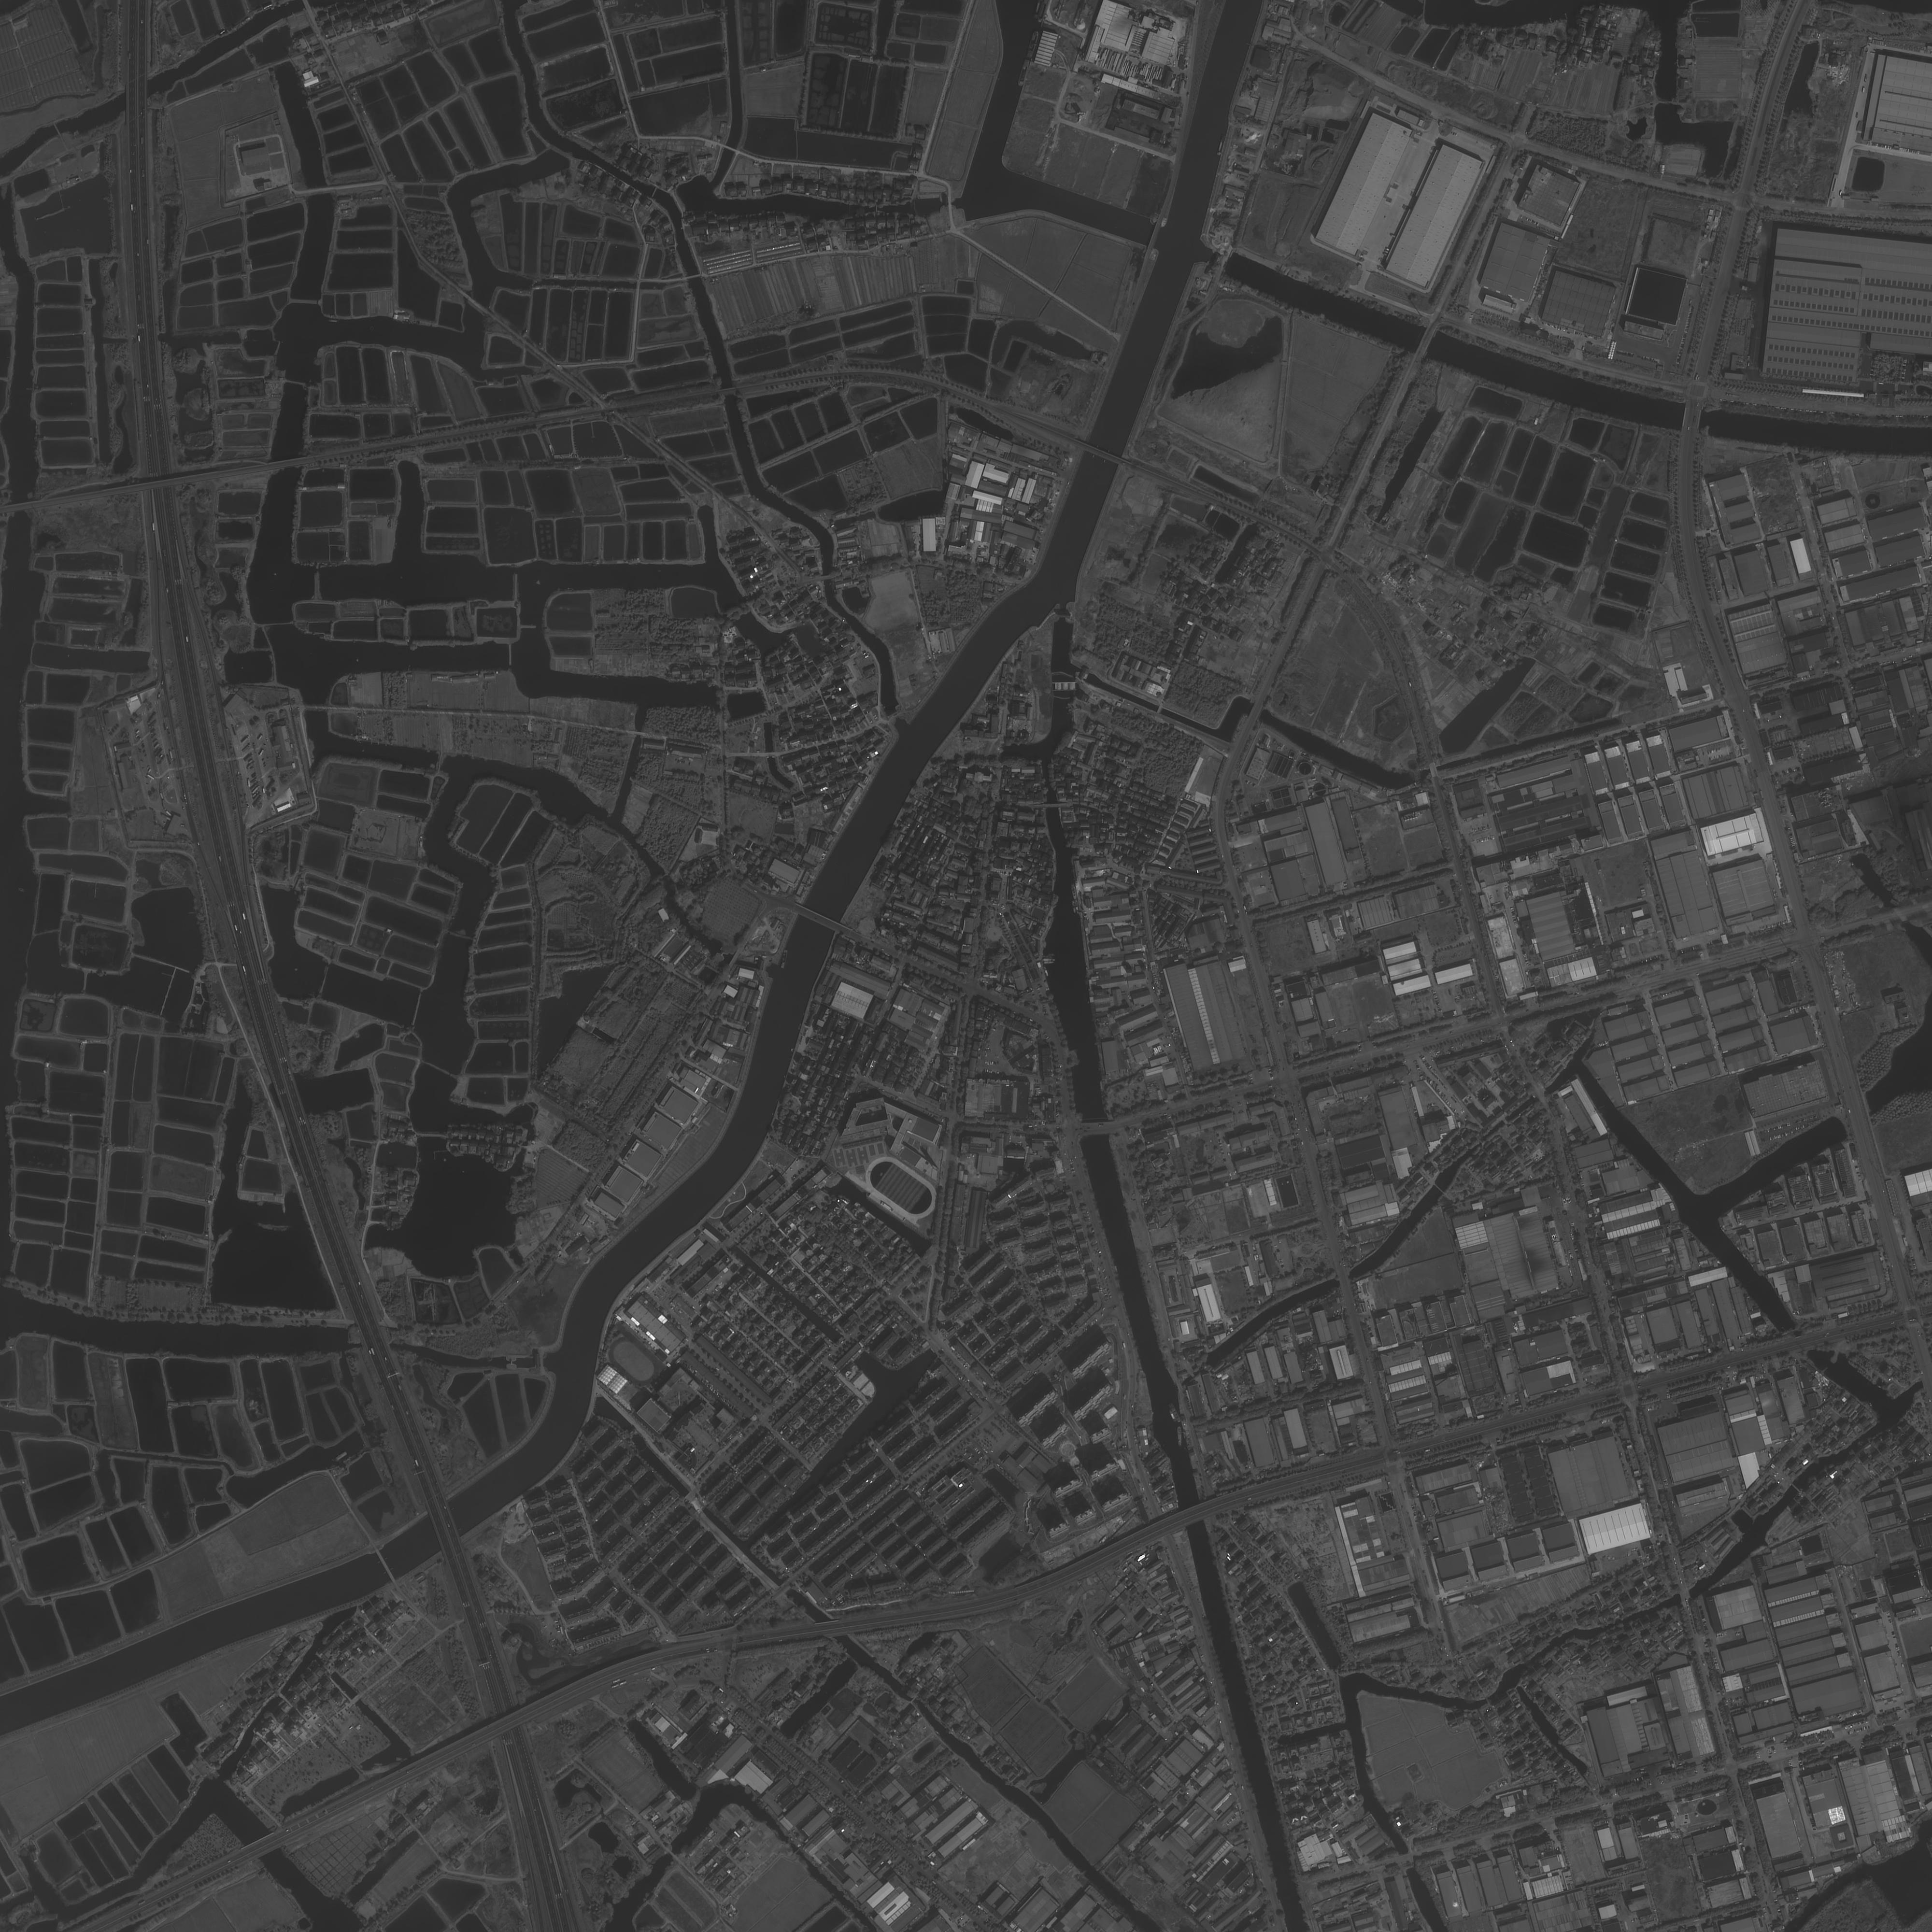ship: (1169, 1403, 1182, 1422), (1177, 1426, 1182, 1447), (1168, 1410, 1177, 1422)
